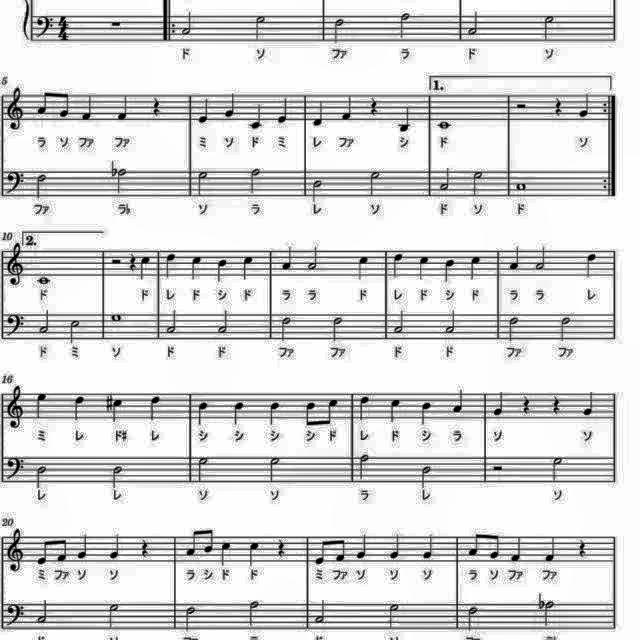Bass-clef: (3, 452, 27, 482), (4, 310, 28, 338), (4, 167, 26, 197), (34, 12, 56, 40), (4, 602, 26, 630)
Diez: (102, 389, 116, 418), (128, 252, 140, 274)
Eighth-note: (312, 536, 330, 568), (33, 534, 51, 566), (58, 87, 74, 121), (324, 396, 341, 428), (33, 88, 51, 118), (304, 398, 320, 430), (183, 526, 199, 558), (55, 535, 71, 565), (466, 528, 482, 558), (334, 536, 350, 564), (202, 524, 216, 556), (488, 532, 502, 562)
Full-note: (436, 116, 456, 132), (514, 178, 530, 194), (108, 310, 124, 326), (35, 273, 53, 287)
Half-note: (180, 604, 200, 634), (548, 456, 568, 486), (266, 456, 284, 488), (245, 164, 263, 196), (365, 166, 383, 198), (245, 599, 263, 631), (468, 166, 486, 198), (253, 10, 270, 42), (384, 602, 401, 634), (390, 306, 408, 336), (214, 306, 232, 336), (164, 307, 182, 337), (312, 597, 330, 627), (463, 604, 481, 634), (195, 457, 212, 488), (356, 454, 372, 486), (116, 168, 132, 200), (196, 166, 212, 198), (106, 600, 122, 632), (32, 599, 49, 629), (444, 306, 461, 336), (178, 10, 196, 38), (32, 464, 50, 492), (109, 464, 127, 492), (464, 10, 482, 38), (278, 315, 294, 345), (438, 163, 454, 193), (36, 306, 52, 336), (558, 314, 574, 344), (34, 170, 50, 200), (504, 315, 520, 345), (331, 315, 347, 345), (542, 11, 558, 41), (398, 10, 414, 40), (306, 244, 322, 274), (332, 13, 348, 43), (532, 245, 548, 275), (418, 464, 434, 492), (66, 318, 82, 346), (542, 600, 556, 630), (310, 176, 326, 202)
Half-rest: (490, 461, 506, 475), (108, 255, 124, 268), (108, 16, 124, 28), (514, 100, 530, 112)
Quarter-note: (394, 104, 414, 136), (144, 392, 164, 423), (230, 399, 250, 429), (576, 90, 594, 122), (355, 392, 373, 423), (389, 250, 406, 282), (509, 532, 526, 564), (70, 394, 88, 424), (583, 251, 601, 281), (420, 534, 438, 564), (354, 253, 372, 283), (450, 387, 468, 417), (245, 539, 263, 569), (386, 396, 404, 426), (267, 399, 285, 428), (74, 530, 90, 562), (222, 88, 238, 120), (311, 96, 327, 128), (81, 92, 97, 124), (34, 390, 50, 422), (340, 90, 356, 122), (118, 90, 134, 122), (248, 100, 264, 132), (197, 94, 213, 126), (275, 94, 291, 126), (188, 254, 205, 284), (489, 388, 506, 418), (195, 400, 213, 428), (164, 251, 180, 281), (386, 533, 402, 563), (416, 253, 432, 283), (354, 530, 370, 560), (466, 254, 482, 284), (106, 531, 122, 561), (544, 535, 560, 565), (582, 389, 598, 419), (137, 254, 153, 284), (109, 394, 125, 424), (213, 258, 230, 286), (508, 246, 524, 274), (240, 254, 256, 282), (278, 244, 294, 272), (218, 540, 234, 568), (442, 258, 458, 286), (418, 400, 434, 428)
Quarter-rest: (148, 93, 164, 119), (136, 534, 152, 560), (548, 392, 564, 418), (552, 94, 568, 118), (275, 536, 289, 562), (574, 537, 588, 561), (366, 94, 380, 118), (520, 394, 534, 418)
Treble-clef: (2, 527, 26, 575), (5, 86, 28, 134), (4, 242, 26, 290), (4, 384, 26, 432)
